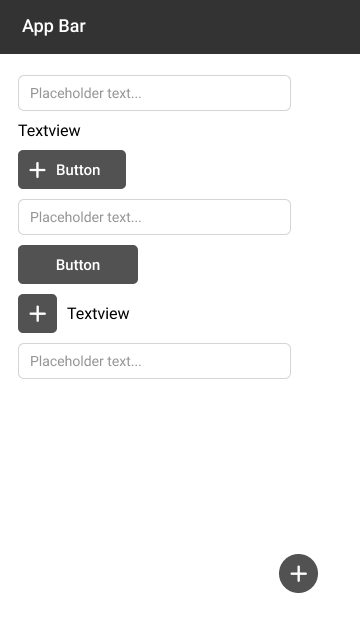button: (16, 244, 139, 286)
buttonIcon: (17, 292, 58, 336)
buttonImage: (18, 150, 127, 190)
editText: (17, 197, 292, 238), (16, 341, 293, 381), (19, 74, 291, 112)
floatingButton: (276, 551, 322, 596)
textView: (17, 121, 81, 141), (67, 304, 132, 323)
toolbar: (1, 1, 359, 55)
